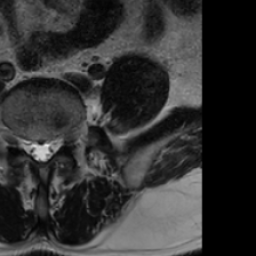CCS_stenosis: (34, 129, 45, 169)
LFS_normal: (56, 124, 67, 157)
LLS_normal: (45, 129, 55, 165)
RFS_normal: (14, 125, 25, 158)
RLS_normal: (25, 128, 34, 164)
